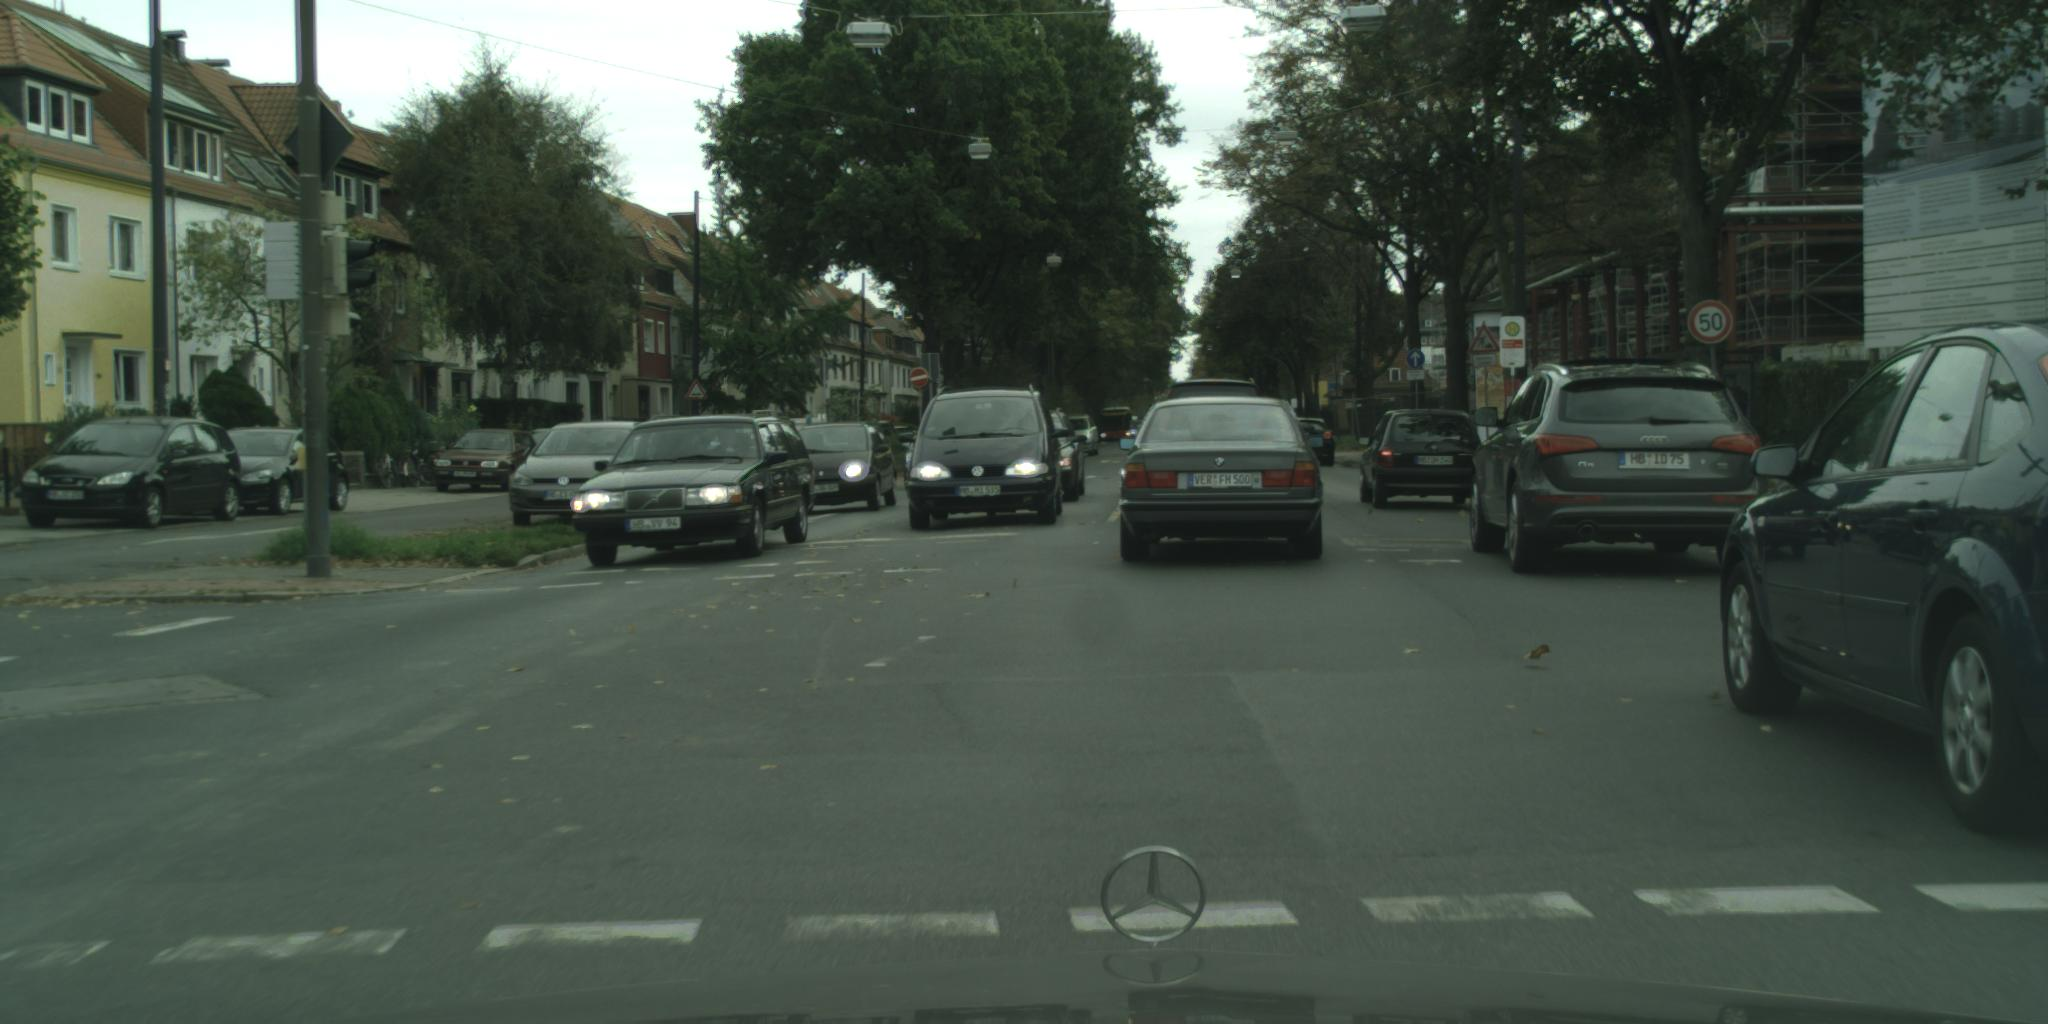bus: (1102, 408, 1132, 447)
car: (1720, 320, 2048, 850), (1469, 359, 1768, 575), (573, 411, 816, 569), (1119, 398, 1324, 566), (17, 417, 243, 532), (899, 385, 1072, 532), (511, 422, 644, 528), (1358, 410, 1482, 511), (225, 428, 349, 517), (798, 422, 899, 513), (434, 430, 552, 494), (1044, 409, 1089, 504), (1164, 377, 1263, 406), (1294, 418, 1336, 468), (1061, 415, 1098, 457), (526, 428, 556, 458)
